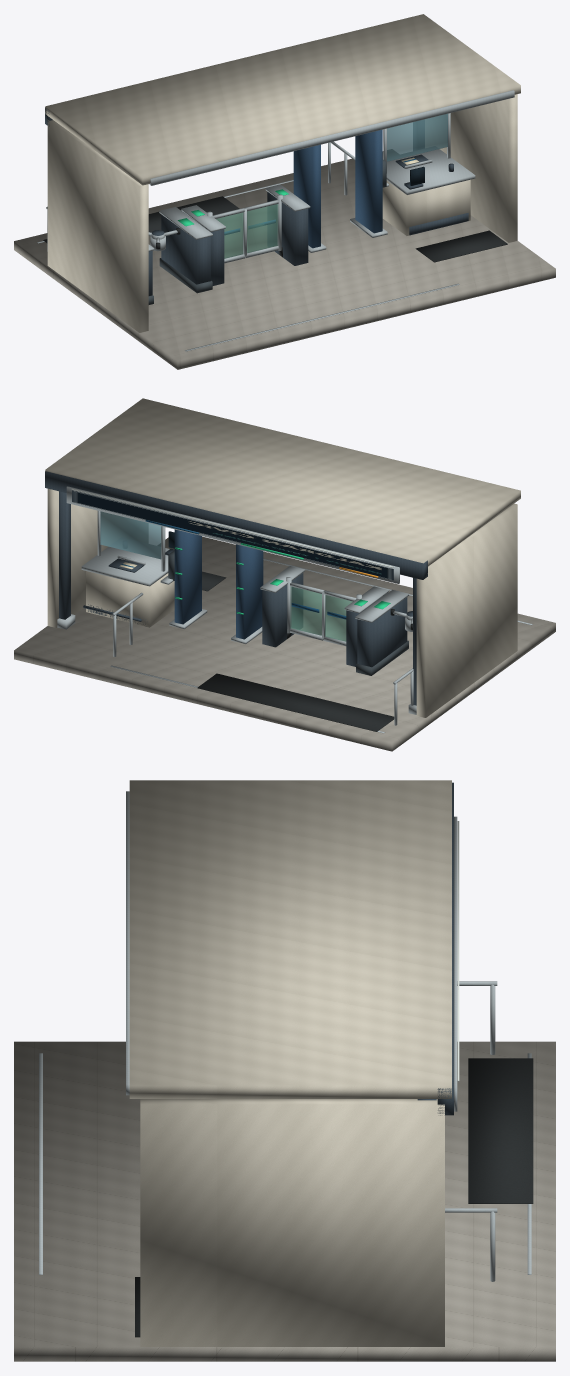
The picture shows the model from 3 angles, top to bottom: view 1: azimuth 30°, elevation 25°; view 2: azimuth 150°, elevation 25°; view 3: azimuth 270°, elevation 25°; orthographic projection. The views are drawn at different scales.
Parts seen in each view (by area): view 1: VIS_Canopy_Ceiling_Slab, VIS_Floor_Structural, VIS_Left_Masonry_Wall, VIS_Right_Masonry_Wall, VIS_Document_Counter_Cabinet, VIS_Back_Trim_Strip, VIS_Scan_Portal_R_Post, VIS_Document_Counter_Worktop, VIS_Turnstile_Right_Pedestal, VIS_Counter_Transaction_Glass, VIS_Scan_Portal_L_Post, VIS_Bypass_Right_Pedestal (+11 smaller); view 2: VIS_Canopy_Ceiling_Slab, VIS_Floor_Structural, VIS_Left_Masonry_Wall, VIS_Right_Masonry_Wall, VIS_Front_Canopy_Fascia, VIS_Civic_Sign_Original_Text, VIS_Visitor_Queue_Mat, VIS_Document_Counter_Cabinet, VIS_Scan_Portal_R_Post, VIS_Scan_Portal_L_Post, VIS_Document_Counter_Worktop, VIS_Turnstile_Right_Pedestal (+13 smaller); view 3: VIS_Canopy_Ceiling_Slab, VIS_Right_Masonry_Wall, VIS_Floor_Structural, VIS_Visitor_Queue_Mat, VIS_Back_Trim_Strip, VIS_Civic_Plaque_Frame, VIS_Front_Canopy_Fascia, VIS_Threshold_Steel_2.68, VIS_Sign_Illumination_Bar.
Part boxes in pixels (box(x1,y1,x2,y2)): VIS_Canopy_Ceiling_Slab: box(45, 14, 520, 185); VIS_Floor_Structural: box(14, 149, 555, 369); VIS_Left_Masonry_Wall: box(47, 119, 148, 332); VIS_Right_Masonry_Wall: box(425, 94, 517, 242); VIS_Document_Counter_Cabinet: box(382, 179, 470, 235); VIS_Back_Trim_Strip: box(149, 90, 514, 185); VIS_Scan_Portal_R_Post: box(355, 129, 382, 233); VIS_Document_Counter_Worktop: box(386, 146, 475, 194); VIS_Turnstile_Right_Pedestal: box(161, 214, 210, 284); VIS_Counter_Transaction_Glass: box(387, 113, 447, 161); VIS_Scan_Portal_L_Post: box(293, 144, 320, 248); VIS_Bypass_Right_Pedestal: box(267, 192, 308, 265); VIS_Canopy_Ceiling_Slab: box(45, 398, 520, 566); VIS_Floor_Structural: box(14, 536, 555, 751); VIS_Left_Masonry_Wall: box(416, 503, 517, 717); VIS_Right_Masonry_Wall: box(47, 488, 147, 627); VIS_Front_Canopy_Fascia: box(45, 471, 427, 579); VIS_Civic_Sign_Original_Text: box(72, 490, 393, 580); VIS_Visitor_Queue_Mat: box(197, 673, 394, 731); VIS_Document_Counter_Cabinet: box(86, 571, 174, 627); VIS_Scan_Portal_R_Post: box(174, 529, 201, 624); VIS_Scan_Portal_L_Post: box(236, 544, 263, 639); VIS_Document_Counter_Worktop: box(81, 538, 169, 586); VIS_Turnstile_Right_Pedestal: box(357, 597, 407, 667); VIS_Canopy_Ceiling_Slab: box(129, 780, 451, 1098); VIS_Right_Masonry_Wall: box(140, 1099, 444, 1346); VIS_Floor_Structural: box(14, 1041, 555, 1361); VIS_Visitor_Queue_Mat: box(468, 1058, 533, 1203); VIS_Back_Trim_Strip: box(126, 791, 129, 1095); VIS_Civic_Plaque_Frame: box(454, 816, 457, 1111); VIS_Front_Canopy_Fascia: box(437, 782, 453, 1115); VIS_Threshold_Steel_2.68: box(39, 1053, 42, 1274); VIS_Sign_Illumination_Bar: box(457, 821, 459, 1081).
Size of the model in its own units: 8 by 3.37 by 6.
Materials: 16 (16 with a texture image).
